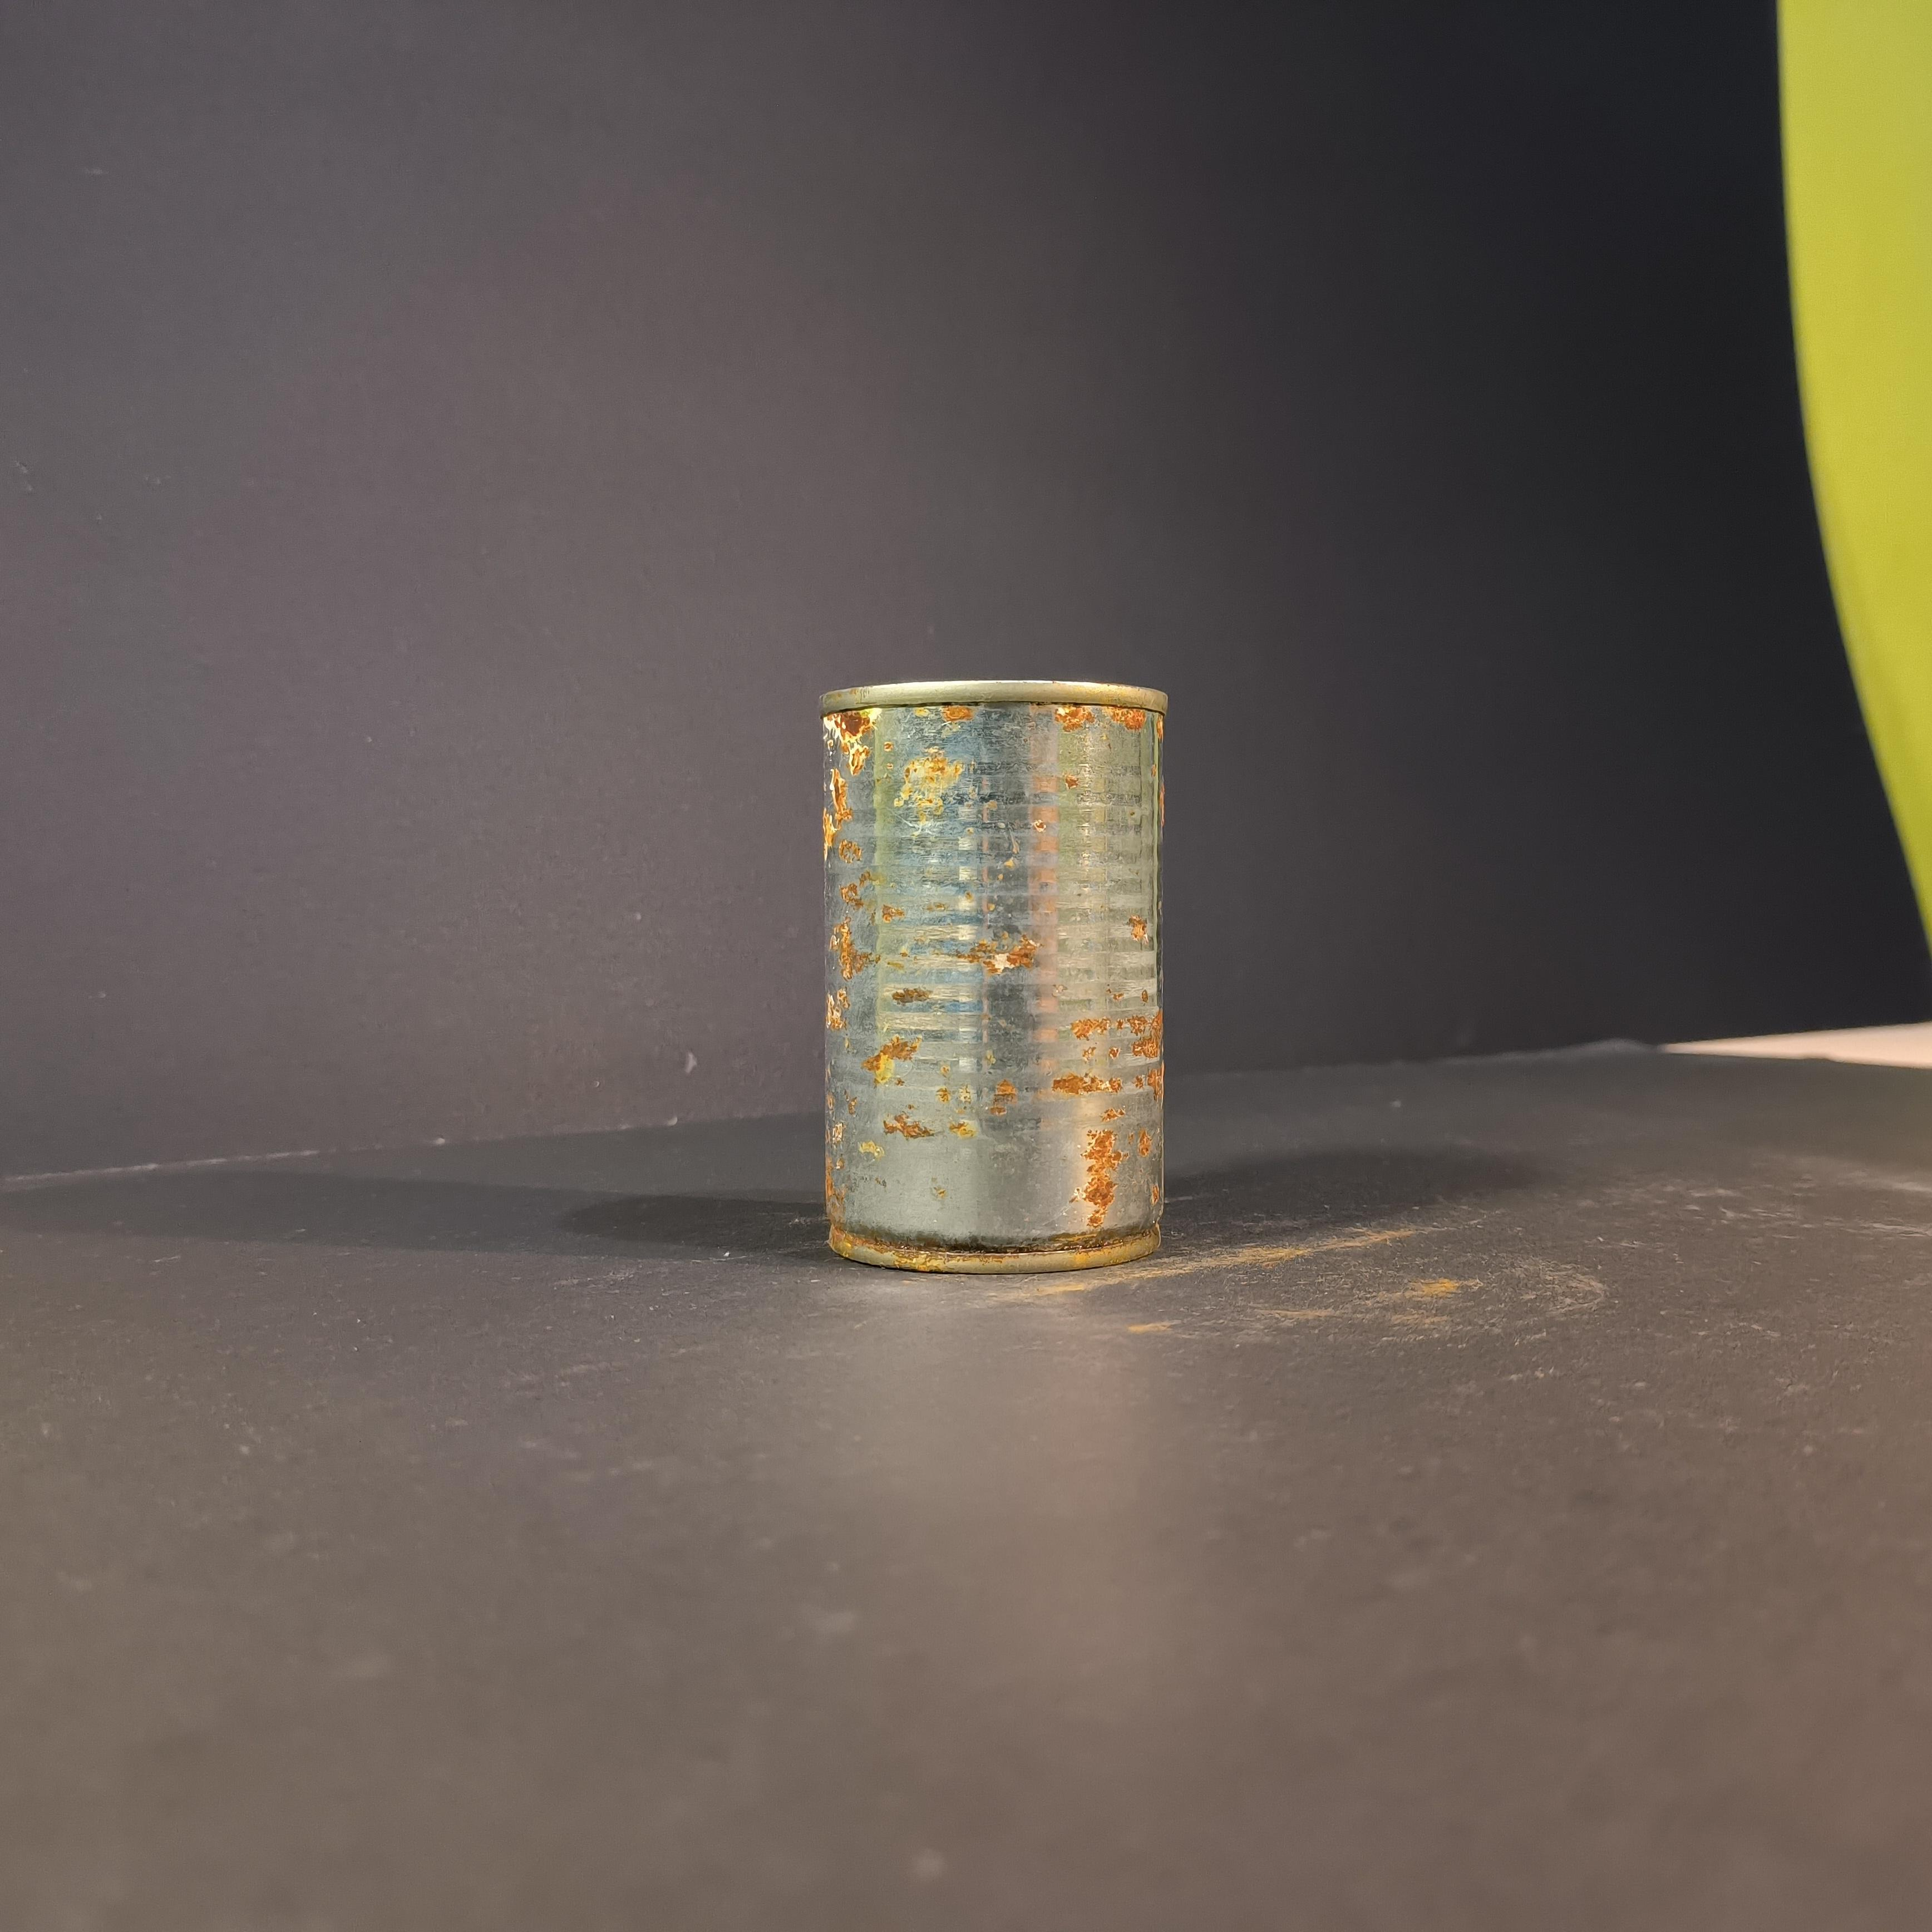Rusted: (803, 660, 1187, 1267)
